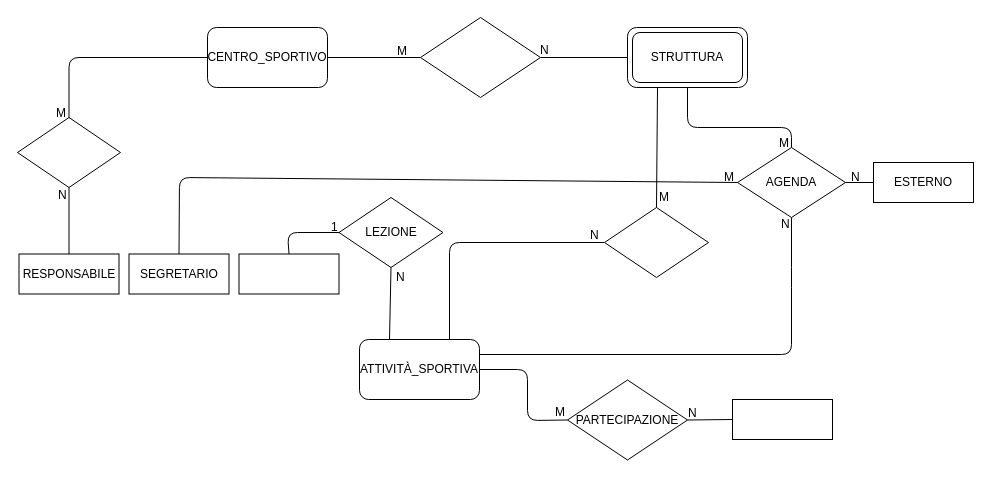
Image size: 991x478. Some labels were removed from this diagram. The shapes that lost their labels are listed below. From the top down, each one's centre as x and y in pixels, then its label:
At (480,57): "UBICAZIONE".
At (68,152): "DIRIGENTE".
At (656,242): "CALENDARIO".
At (288,273): "ISTRUTTORE".
At (782,419): "INTERNO".
